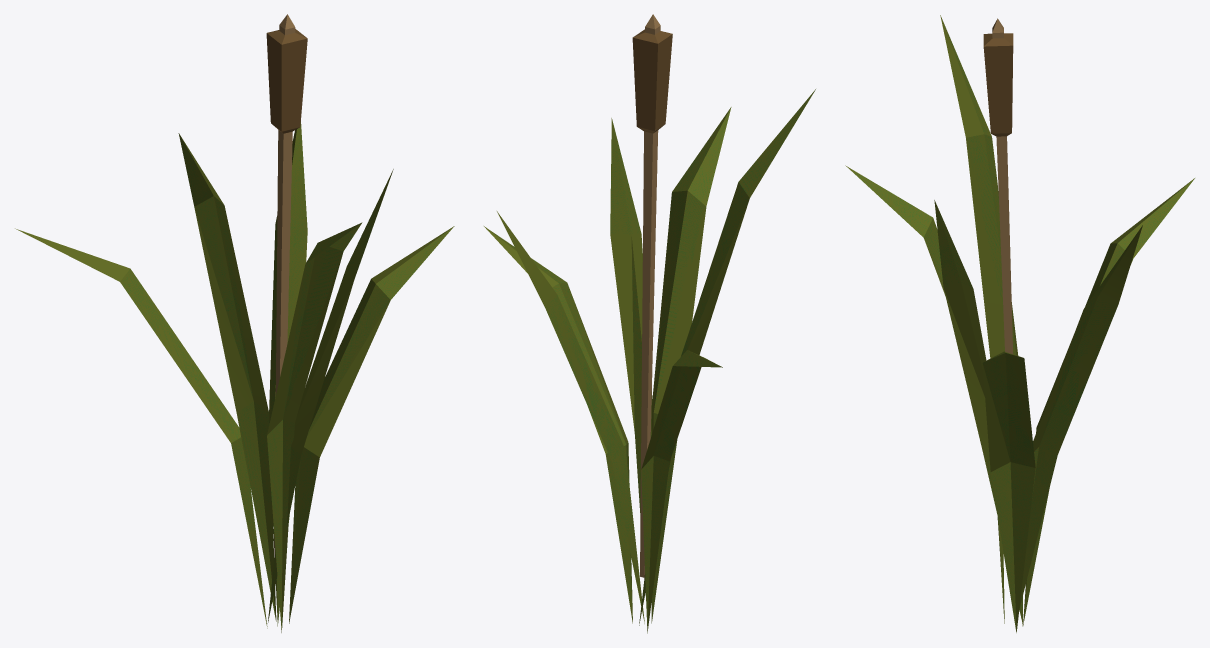
File: Plant_06_LOD1.fbx
3 renders of one model, left to right at view 1: azimuth 30°, elevation 25°; view 2: azimuth 150°, elevation 25°; view 3: azimuth 270°, elevation 25°, orthographic. The views are drawn at different scales.
Parts seen in each view (by area): view 1: polySurface131; view 2: polySurface131; view 3: polySurface131.
Boxes of the visible parts, x1=… form: polySurface131: x1=15, y1=14, x2=454, y2=632; polySurface131: x1=484, y1=14, x2=815, y2=633; polySurface131: x1=845, y1=15, x2=1194, y2=632.
Bounding box in the file's own units: 168 × 292 × 151.
